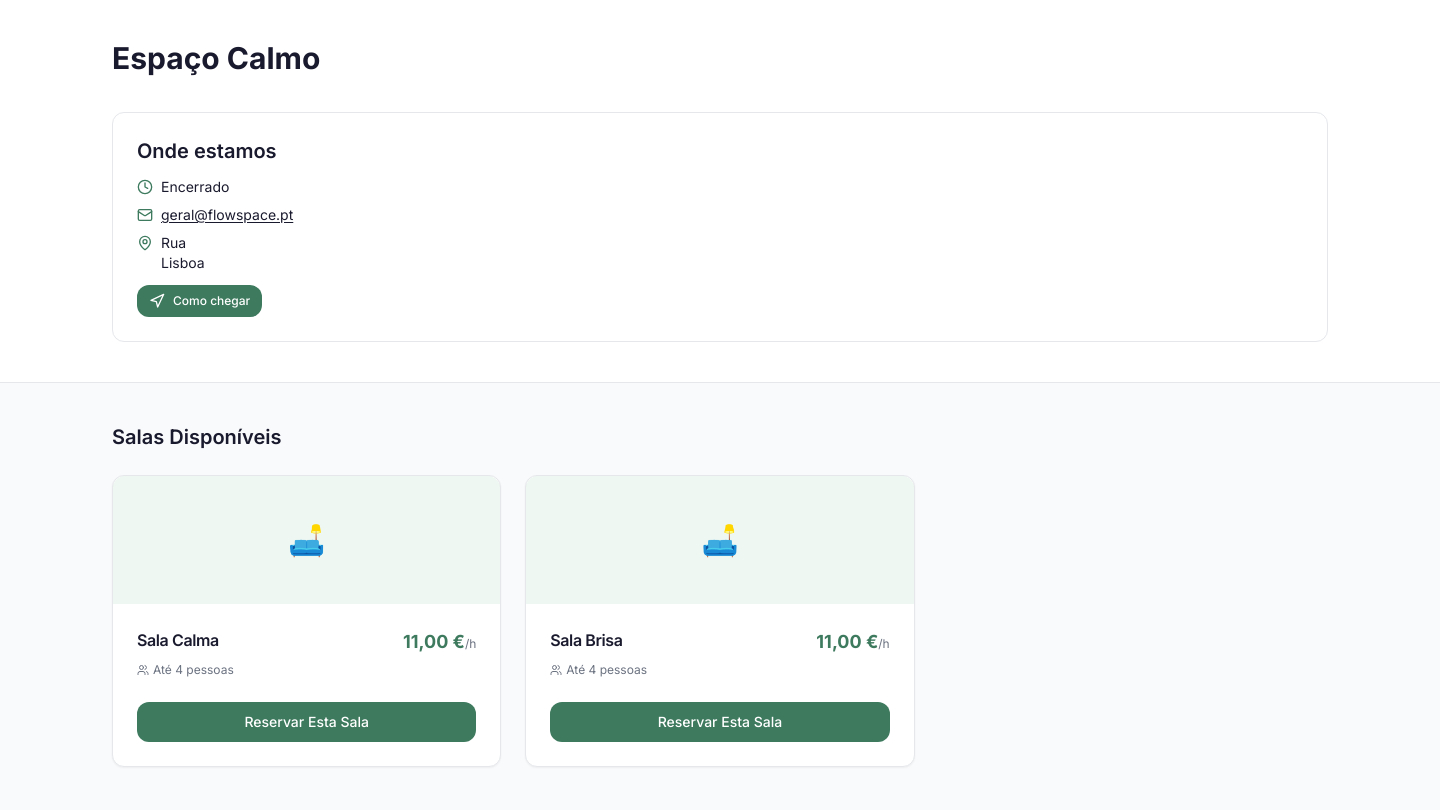
Space page — selecting a room (B27) › marks the selected room card and only that one
Click the button "Reservar Esta Sala" below "Sala Calma" at (307, 722), box [137,702,476,742]
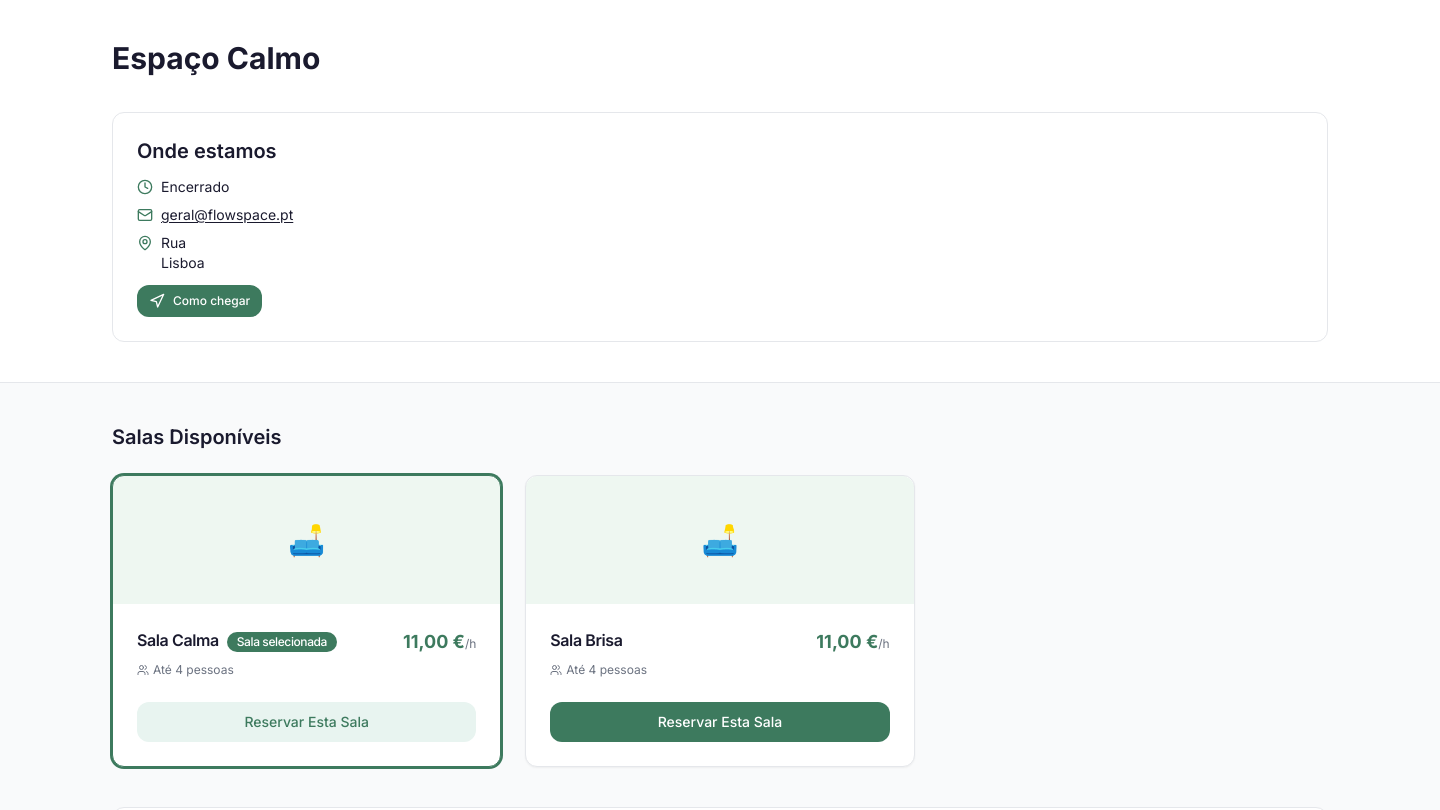
Check: the text "Sala selecionada" is shown, box [227,632,337,652]
